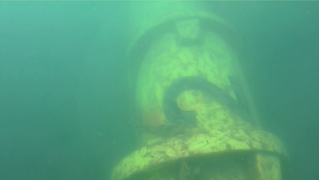2: (162, 74, 258, 128)
pipe: (109, 1, 286, 180)
